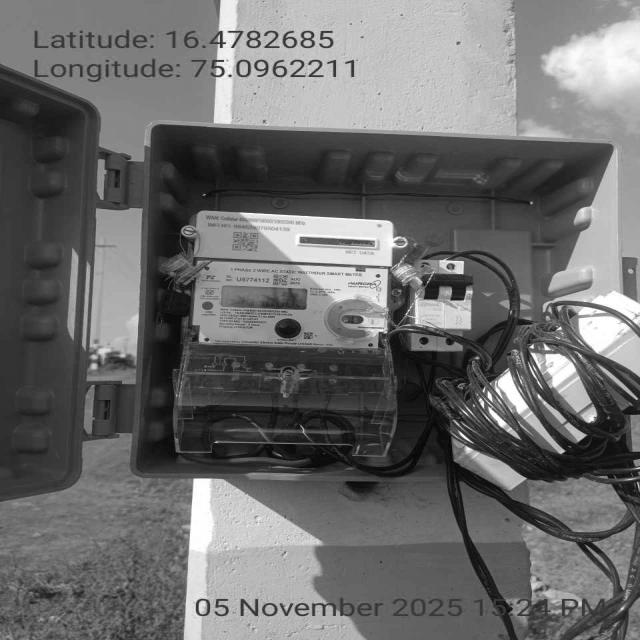meter: (196, 212, 394, 349)
